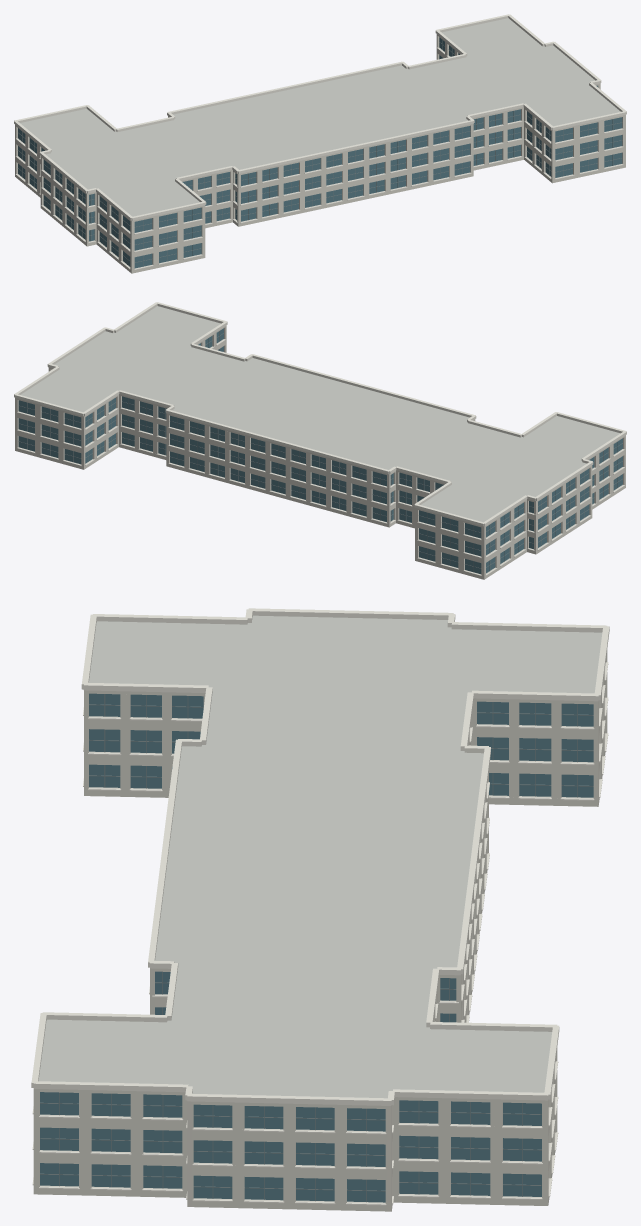
3 renders of one model, top to bottom at view 1: azimuth 30°, elevation 25°; view 2: azimuth 150°, elevation 25°; view 3: azimuth 270°, elevation 25°, orthographic. The views are drawn at different scales.
Visible parts, largest first — view 1: roof, wall, glass, trim, metal; view 2: roof, wall, glass, trim, metal; view 3: roof, wall, glass, trim, metal.
Part boxes in pixels (x1=…): roof: x1=20, y1=18, x2=620, y2=216; wall: x1=15, y1=34, x2=625, y2=273; glass: x1=18, y1=37, x2=622, y2=268; trim: x1=14, y1=14, x2=626, y2=269; metal: x1=17, y1=40, x2=622, y2=266; roof: x1=21, y1=306, x2=620, y2=522; wall: x1=15, y1=325, x2=625, y2=579; glass: x1=18, y1=328, x2=622, y2=574; trim: x1=14, y1=302, x2=626, y2=575; metal: x1=18, y1=331, x2=622, y2=571; roof: x1=38, y1=615, x2=602, y2=1098; wall: x1=33, y1=650, x2=607, y2=1211; glass: x1=40, y1=693, x2=593, y2=1202; trim: x1=31, y1=608, x2=609, y2=1205; metal: x1=40, y1=694, x2=593, y2=1202.
Bounding box in the file's own units: 92.27 × 9.74 × 45.75.
